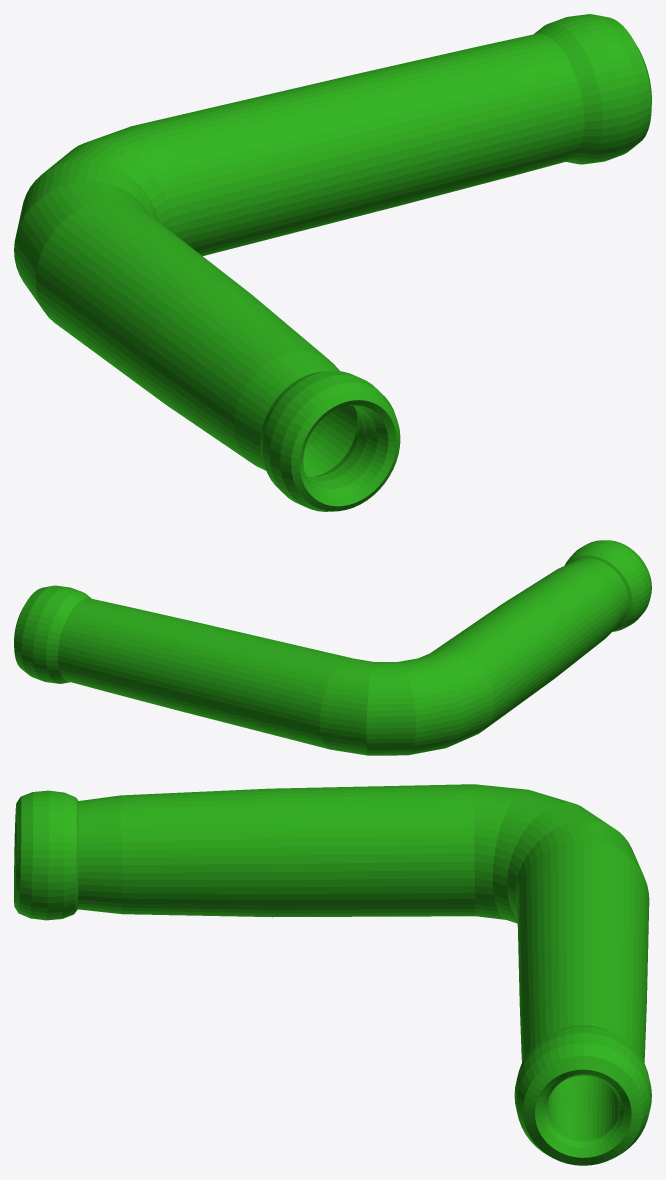
The model's file is pipe.glb.
3 views of the same model, one above another, from view 1: azimuth 30°, elevation 25°; view 2: azimuth 150°, elevation 25°; view 3: azimuth 270°, elevation 25° (orthographic). The views are drawn at different scales.
Visible parts, largest first — view 1: Torus.001; view 2: Torus.001; view 3: Torus.001.
Boxes of the visible parts, x1,y1,x2,y2 form: Torus.001: (14,14,651,511); Torus.001: (14,540,651,755); Torus.001: (14,784,651,1165).
Bounding box in the file's own units: 11.29 × 2.28 × 10.43.
